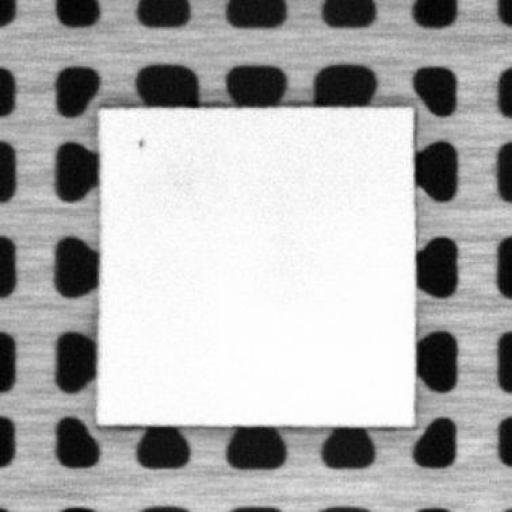DIE_INK: (135, 134, 145, 150)
